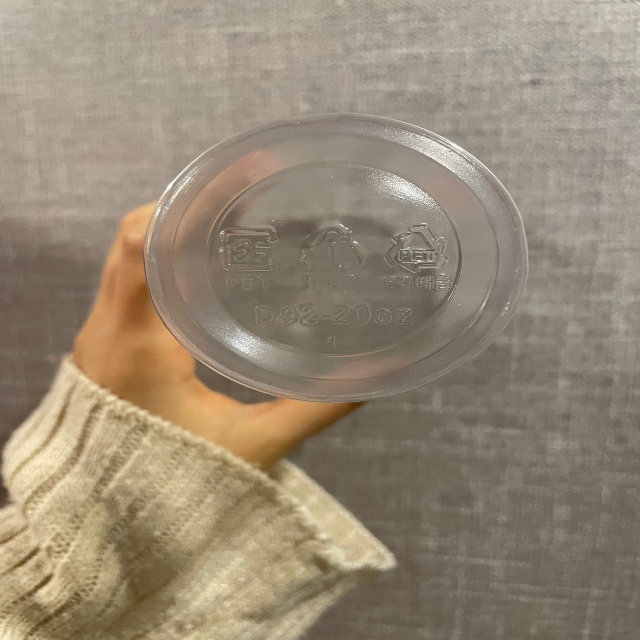pet: (376, 219, 462, 296), (209, 217, 288, 296), (294, 216, 371, 295)
